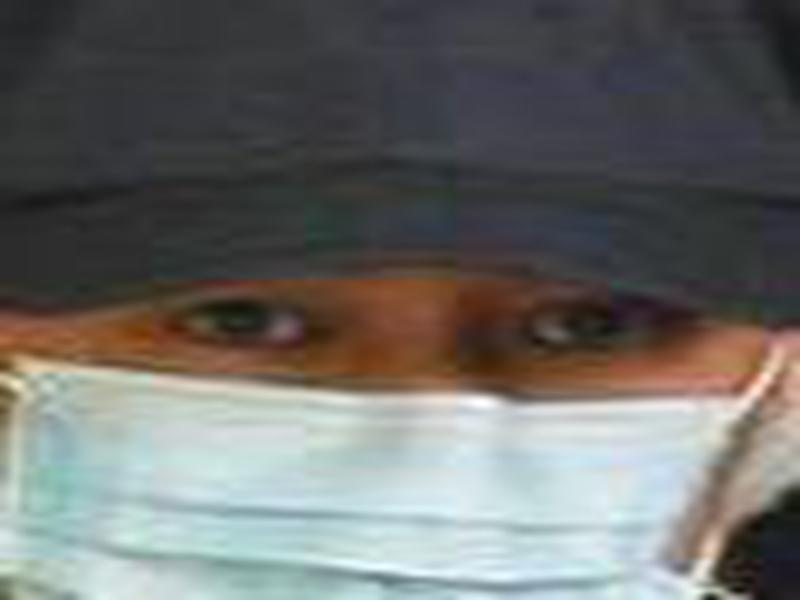with_mask: (1, 261, 800, 600)
